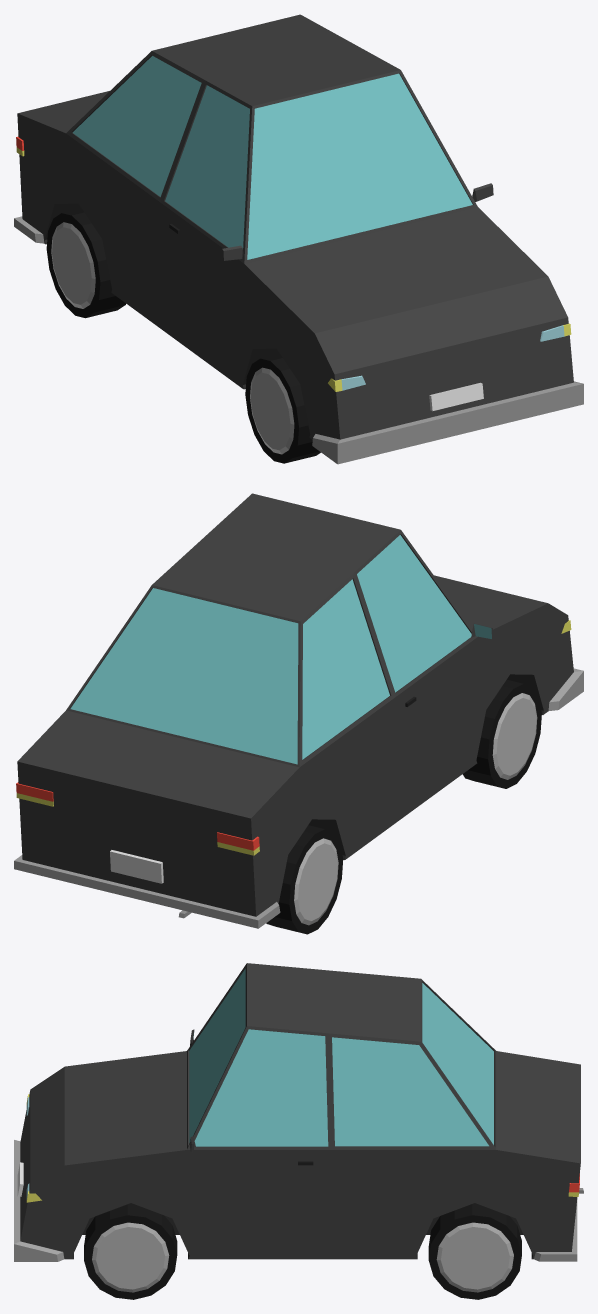
The model's file is lp_car1.fbx.
3 renders of one model, top to bottom at view 1: azimuth 30°, elevation 25°; view 2: azimuth 150°, elevation 25°; view 3: azimuth 270°, elevation 25°, orthographic. The views are drawn at different scales.
Parts seen in each view (by area): view 1: Car, wheel_BR, wheel_FR; view 2: Car, wheel_FR, wheel_BR; view 3: Car, wheel_FL, wheel_BL.
Boxes of the visible parts, bbox=[...] form: Car: bbox=[14, 14, 583, 464]; wheel_BR: bbox=[46, 208, 125, 318]; wheel_FR: bbox=[245, 353, 320, 463]; Car: bbox=[14, 493, 583, 928]; wheel_FR: bbox=[462, 680, 541, 788]; wheel_BR: bbox=[266, 825, 343, 934]; Car: bbox=[14, 963, 583, 1261]; wheel_FL: bbox=[84, 1203, 177, 1299]; wheel_BL: bbox=[428, 1203, 521, 1299].
Size of the model in its own units: 231 by 240 by 487.
